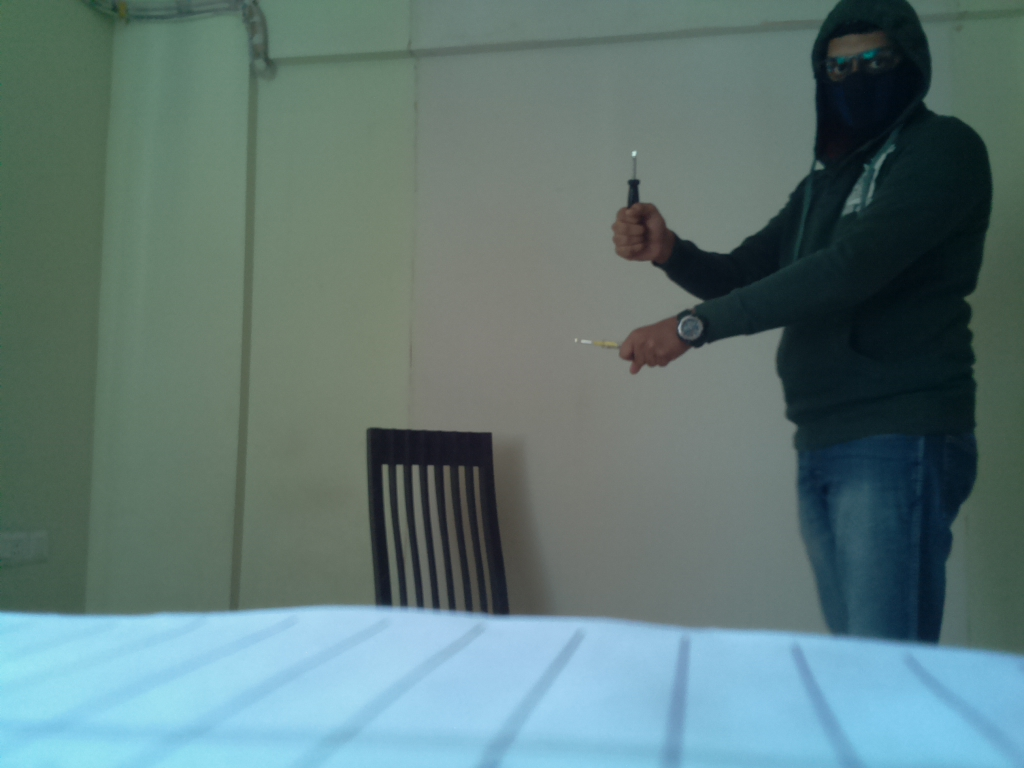none2: (672, 307, 711, 356)
none3: (620, 144, 648, 220), (569, 333, 646, 358)
